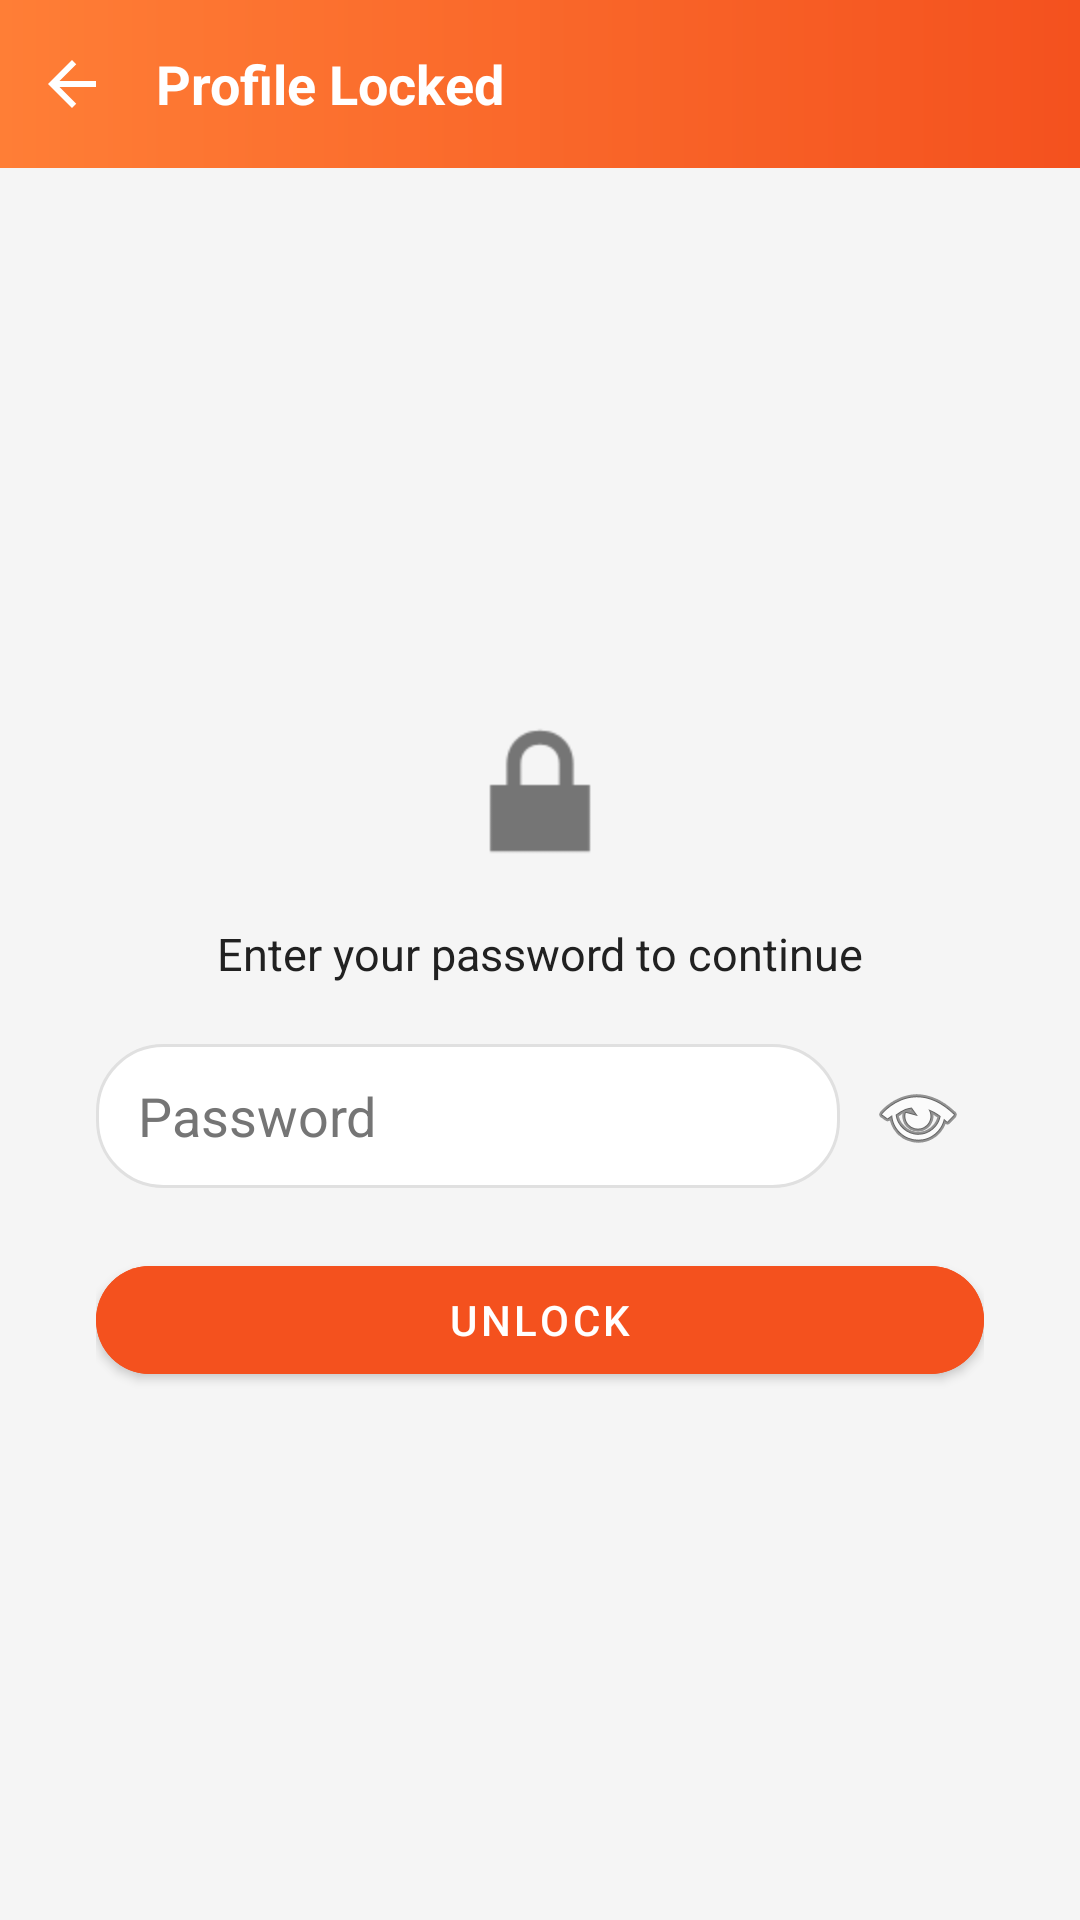

Icon click points for this 1080px x 1920px phone screenshot, format [x,y]:
back: [72,84]
lock: [540,791]
view: [918,1118]
